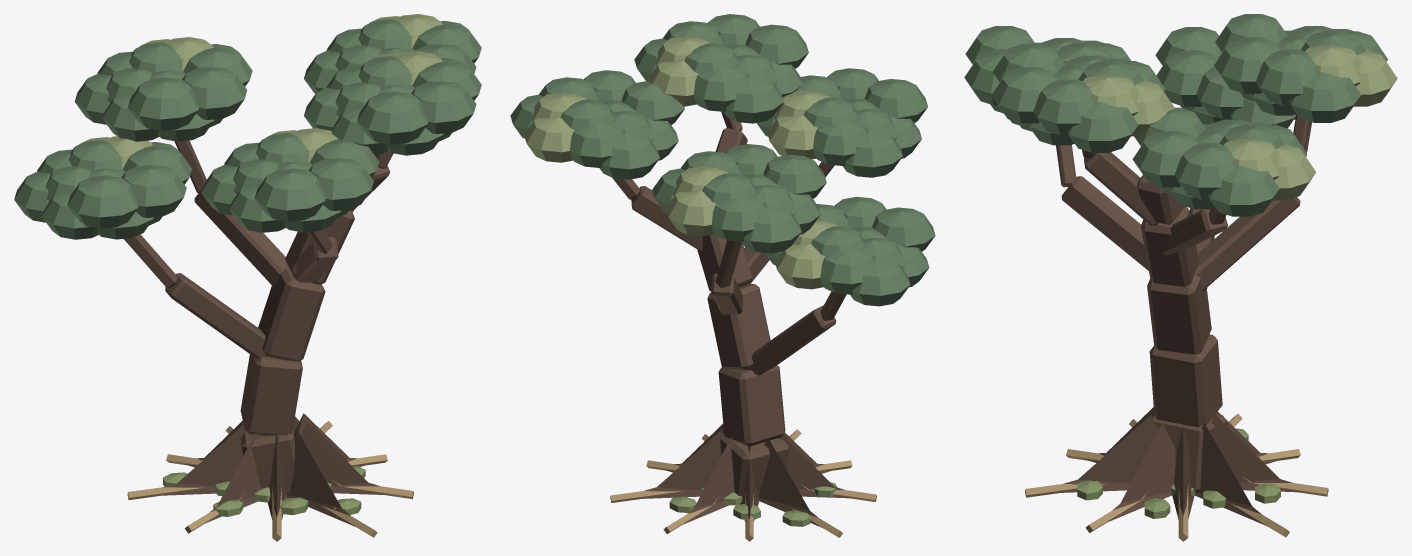
File: fern_hollow-component.glb
3 views of the same model, side by side, from view 1: azimuth 30°, elevation 25°; view 2: azimuth 150°, elevation 25°; view 3: azimuth 270°, elevation 25° (orthographic). The views are drawn at different scales.
Parts seen in each view (by area): view 1: runtime_canopy sage, runtime_ancient bark, runtime_canopy sunlit, runtime_exposed heartwood, runtime_fern light; view 2: runtime_canopy sage, runtime_ancient bark, runtime_canopy sunlit, runtime_exposed heartwood, runtime_fern light; view 3: runtime_canopy sage, runtime_ancient bark, runtime_canopy sunlit, runtime_exposed heartwood, runtime_fern light.
Boxes of the visible parts, x1,y1,x2,y2 form: runtime_canopy sage: (14,19,481,239); runtime_ancient bark: (124,140,393,527); runtime_canopy sunlit: (79,14,442,169); runtime_exposed heartwood: (127,421,413,541); runtime_fern light: (163,466,365,516); runtime_canopy sage: (510,14,935,306); runtime_ancient bark: (612,111,856,528); runtime_canopy sunlit: (524,37,836,289); runtime_exposed heartwood: (610,429,876,541); runtime_fern light: (669,482,837,526); runtime_canopy sage: (964,14,1387,216); runtime_ancient bark: (1052,114,1311,526); runtime_canopy sunlit: (1061,45,1397,200); runtime_exposed heartwood: (1025,413,1328,541); runtime_fern light: (1077,428,1280,518).
Bounding box in the file's own units: 9.84 × 9.39 × 7.99.
